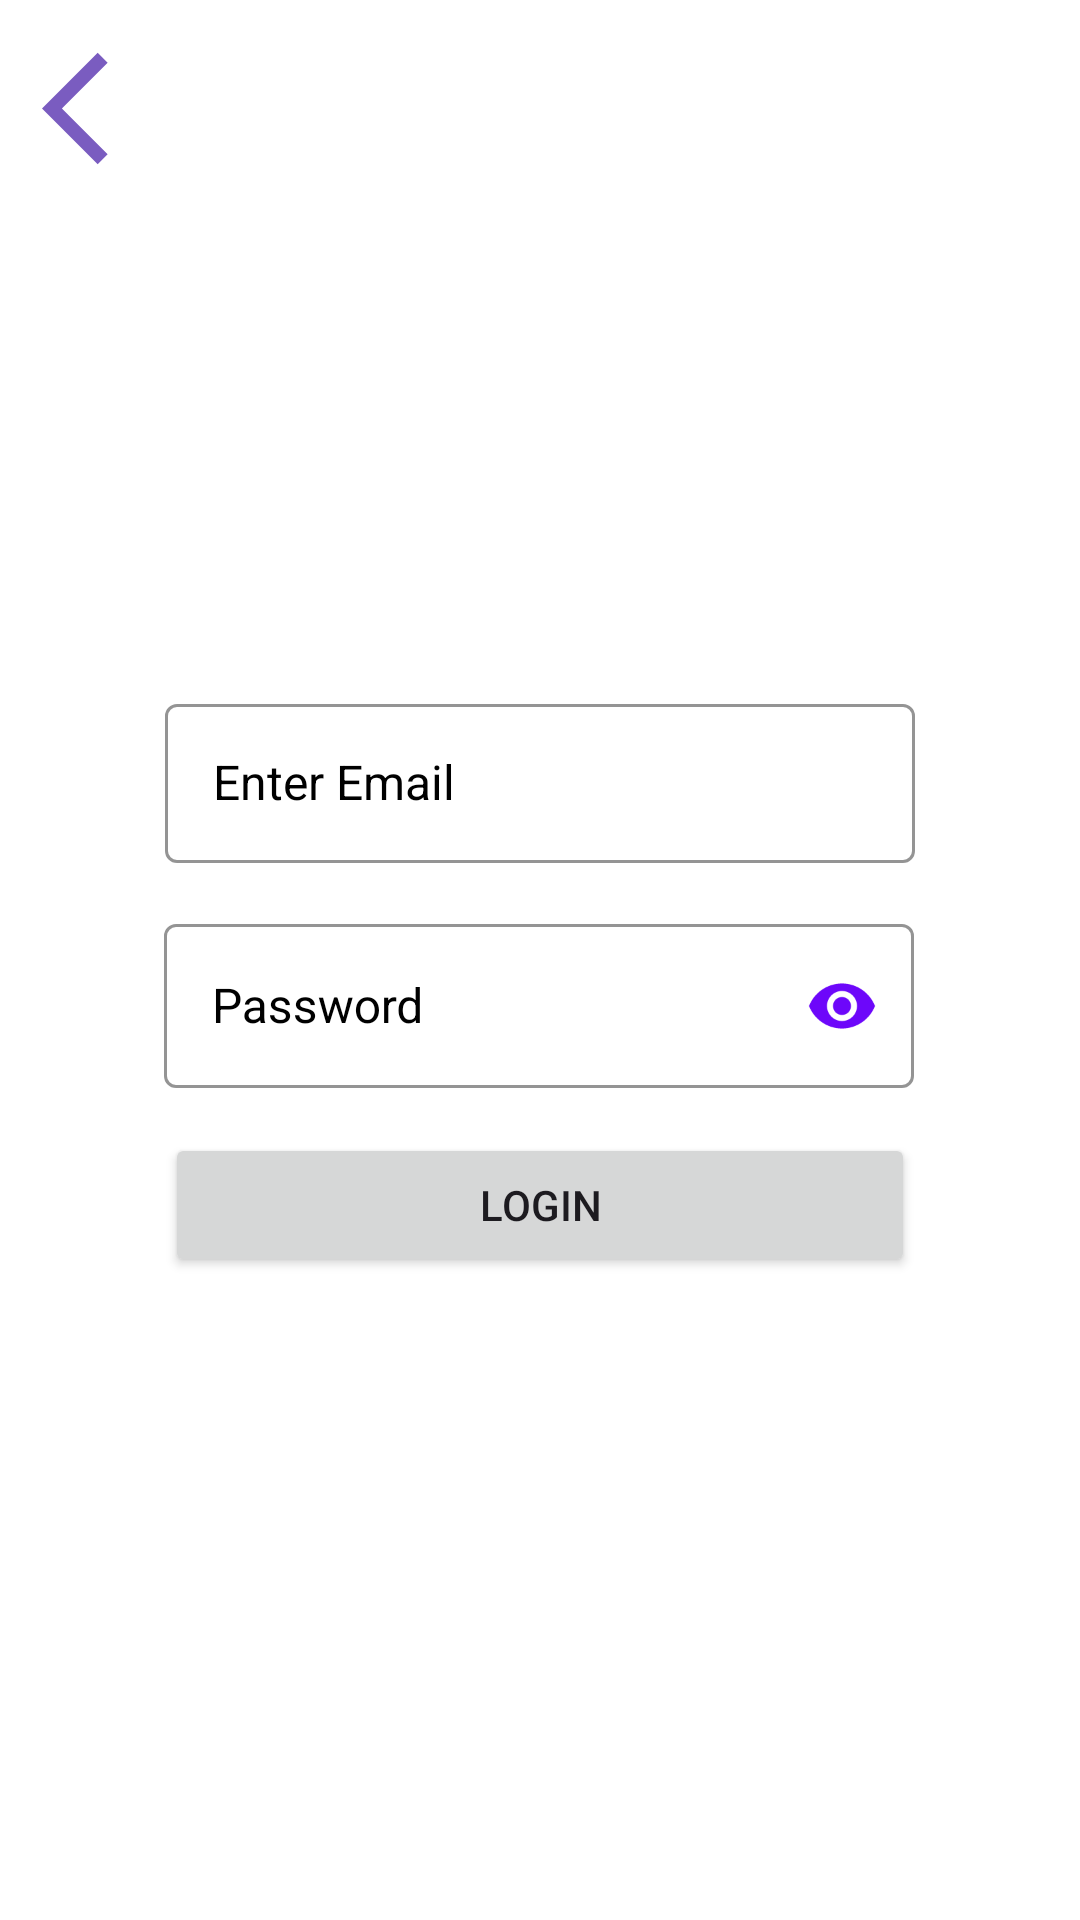

Named icons in this screenshot (1080 × 1920) and their bounding boxes, bbox=(x1, y1, x2, y2):
arrow back: bbox=(42, 53, 108, 164)
